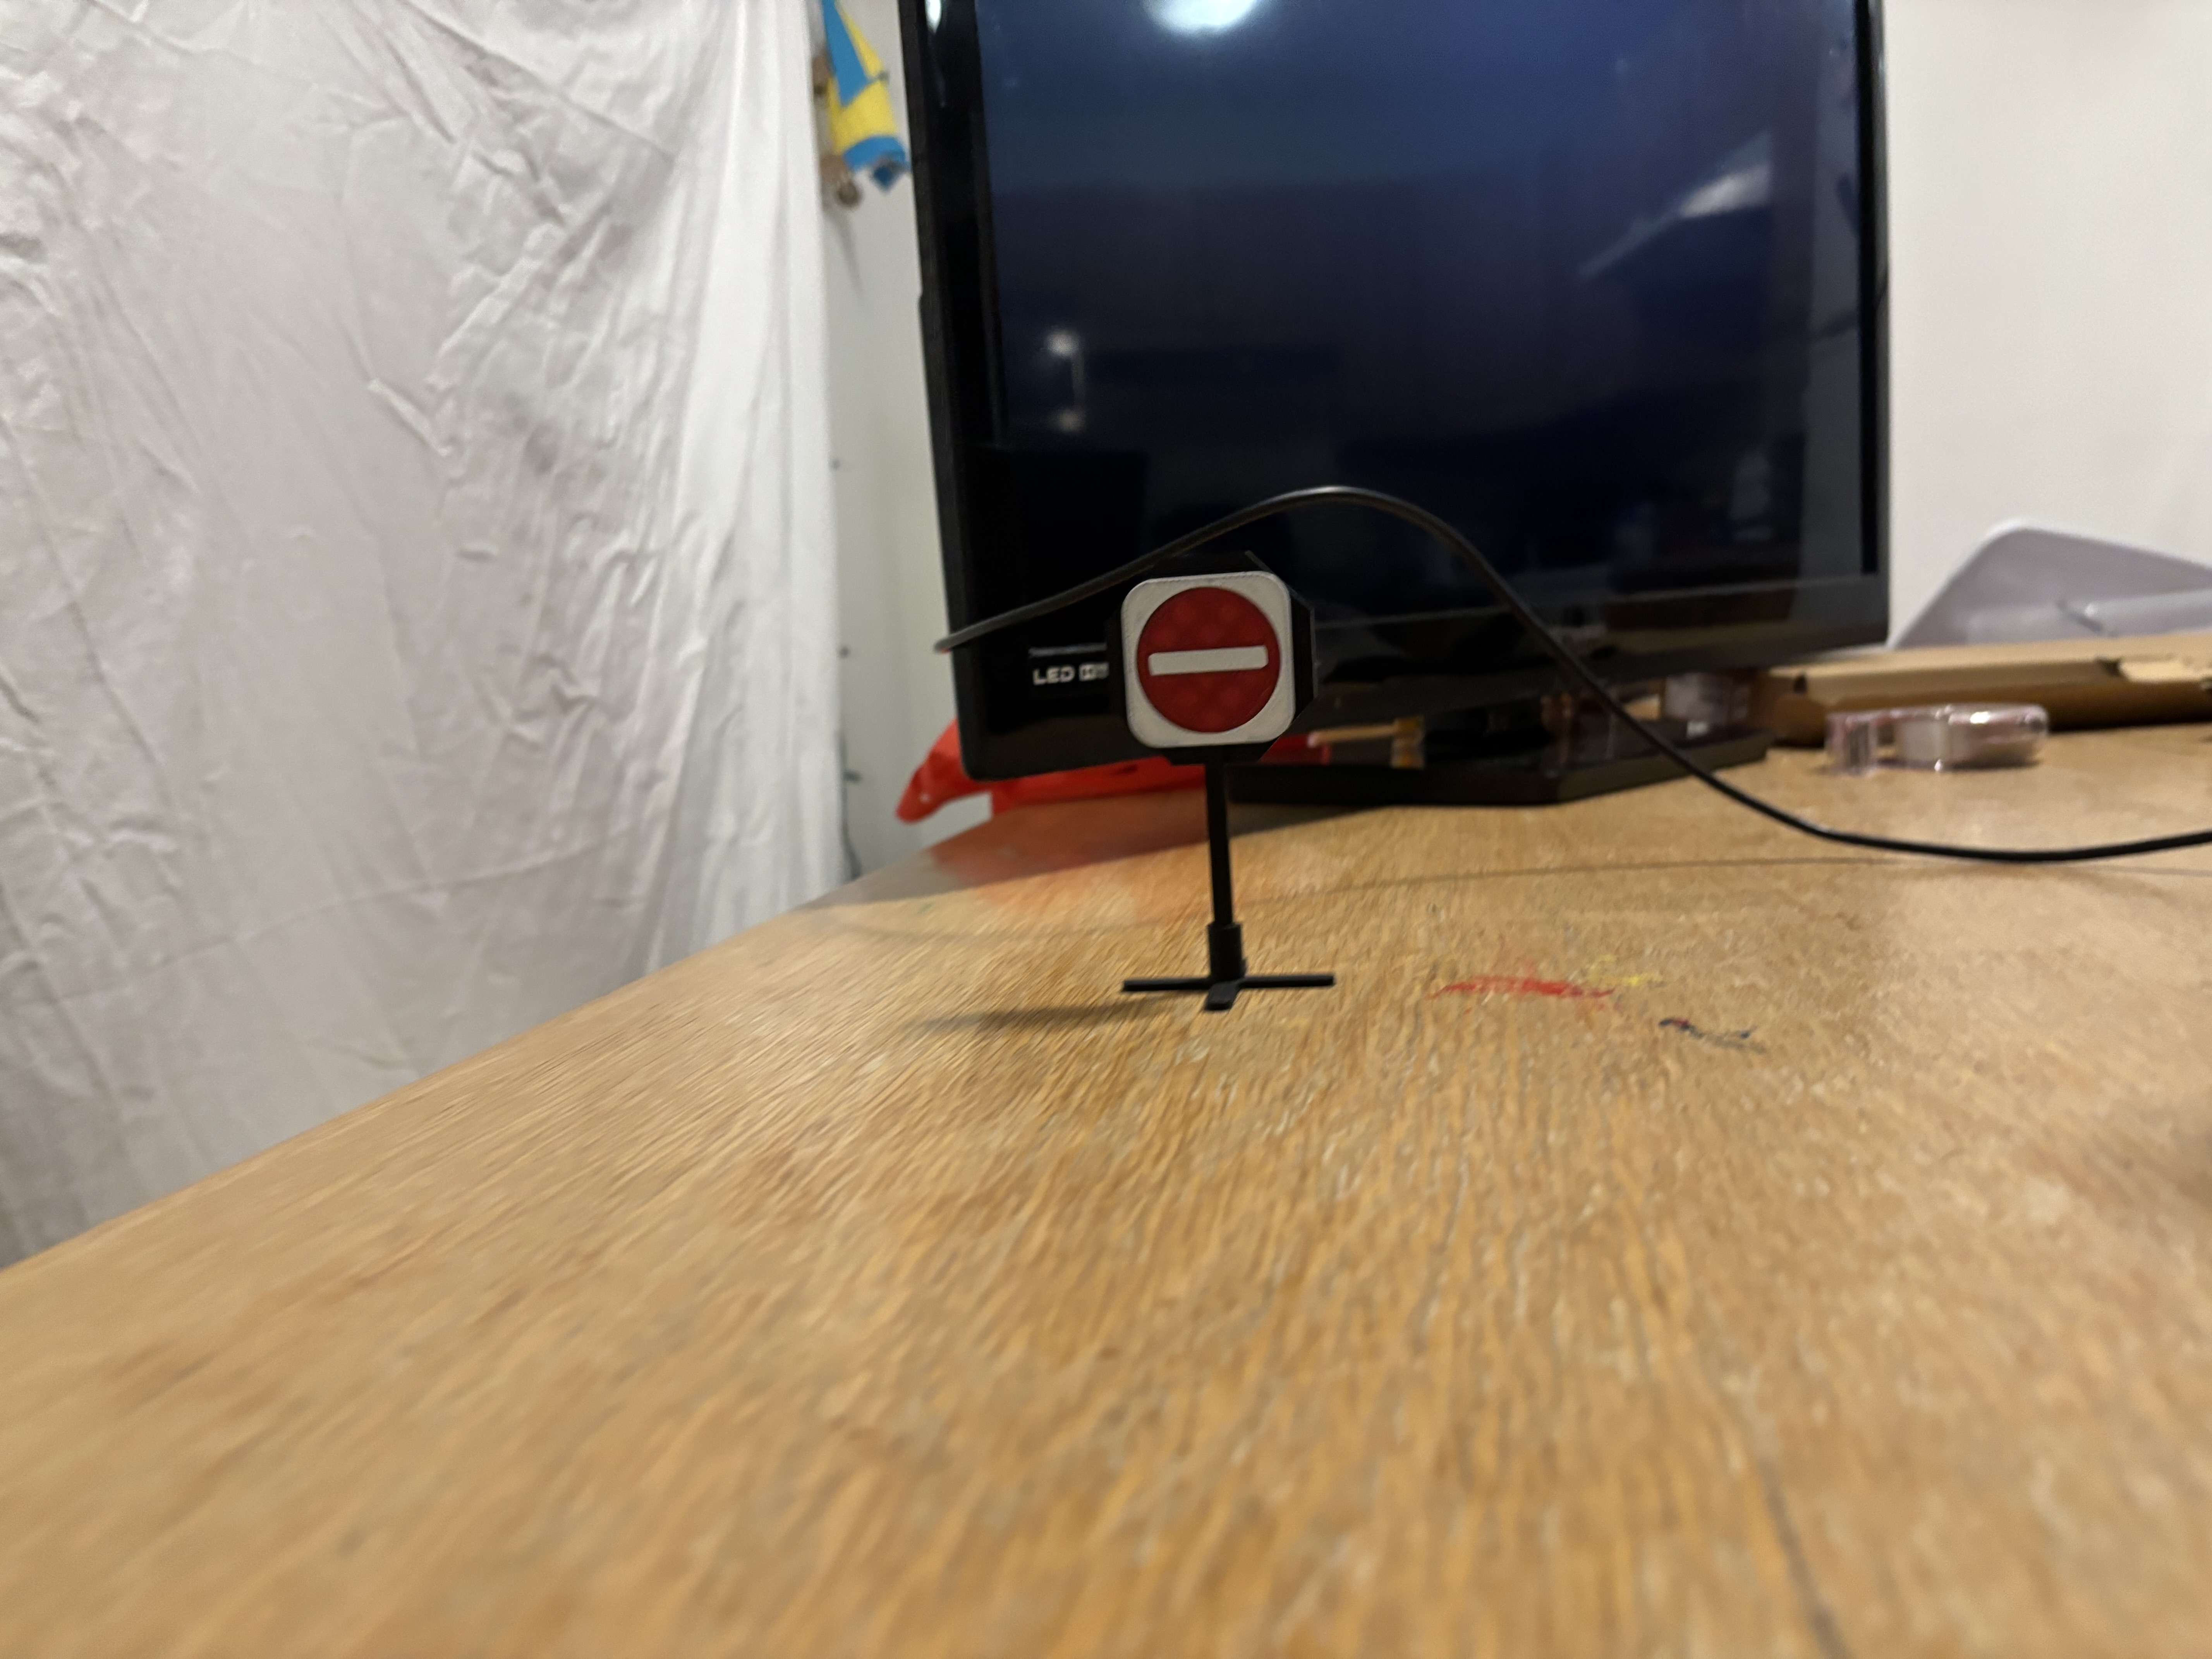sign_noentry: (1113, 552, 1299, 756)
